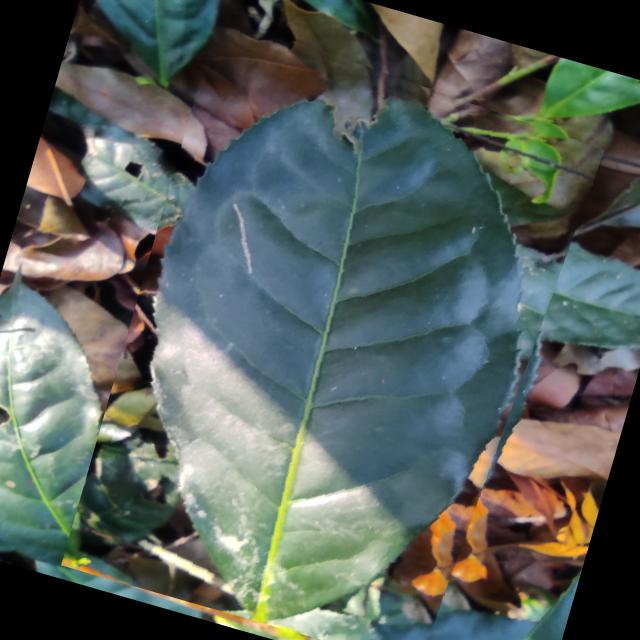Category D(7+ days, Not for Tea): (61, 13, 611, 640)
